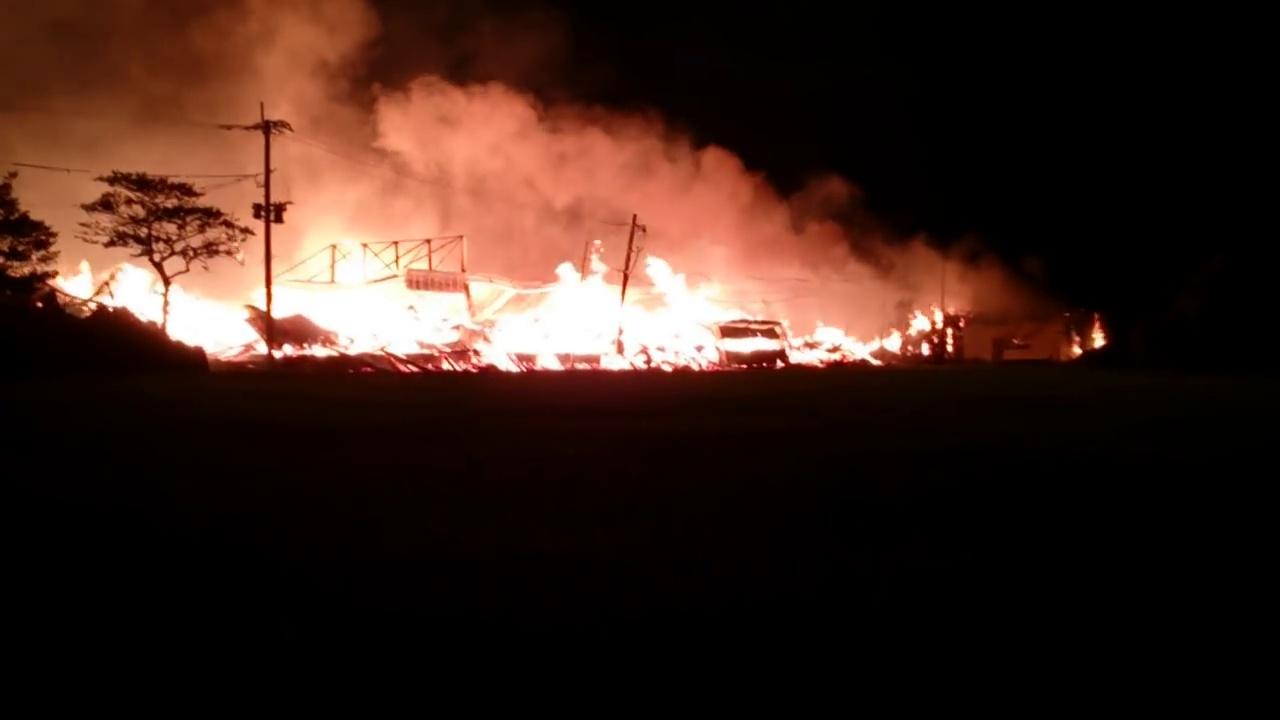fire: (52, 238, 958, 363), (1063, 310, 1107, 355)
